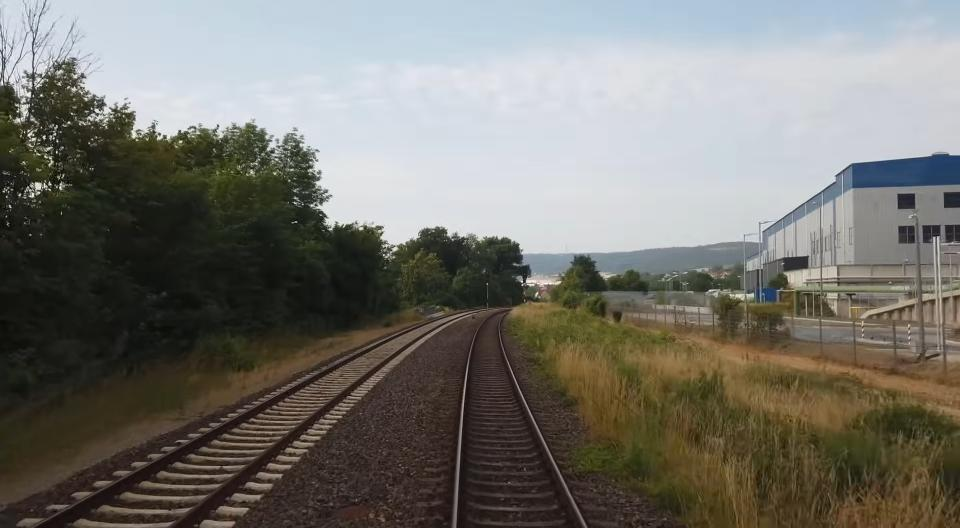Plant: (576, 442, 678, 514)
